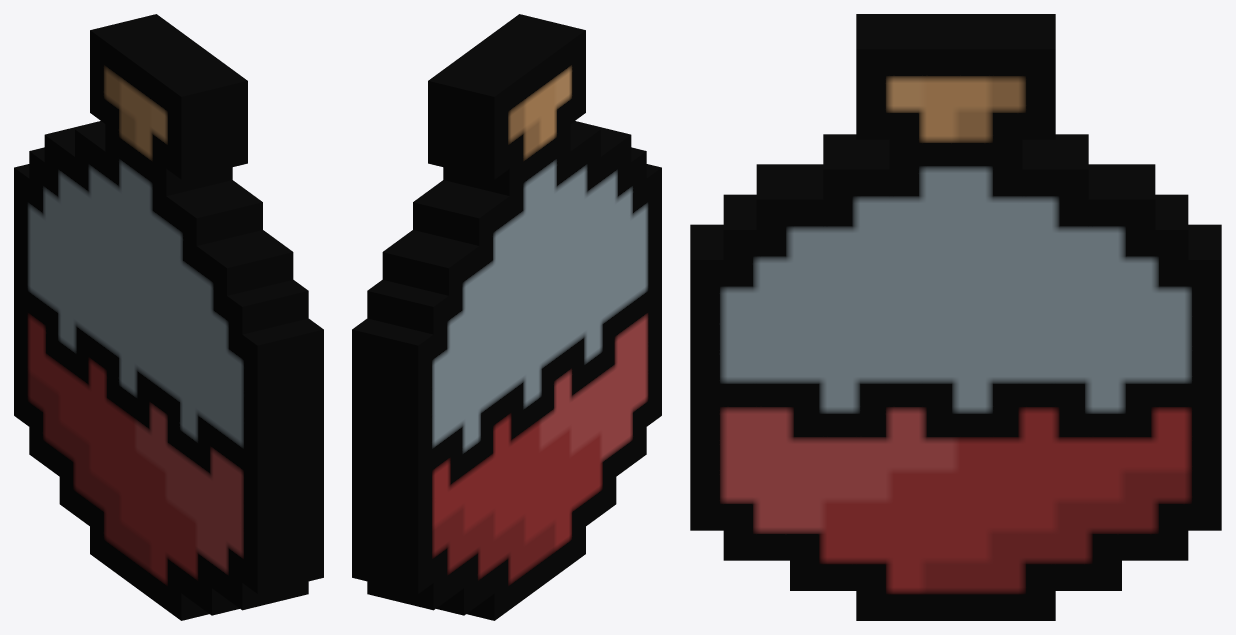
The model's file is 014-Equipment_SmallHealthPotion.fbx.
3 renders of one model, left to right at view 1: azimuth 30°, elevation 25°; view 2: azimuth 150°, elevation 25°; view 3: azimuth 270°, elevation 25°, orthographic. The views are drawn at different scales.
Visible parts, largest first — view 1: Equipments14; view 2: Equipments14; view 3: Equipments14.
Boxes of the visible parts, box(x1,y1,x2,y2) form: Equipments14: box(14, 14, 323, 620); Equipments14: box(352, 14, 661, 620); Equipments14: box(690, 14, 1221, 620).
Bounding box in the file's own units: 0.045 × 0.3393 × 0.2857.
Materials: 1 (1 with a texture image).
